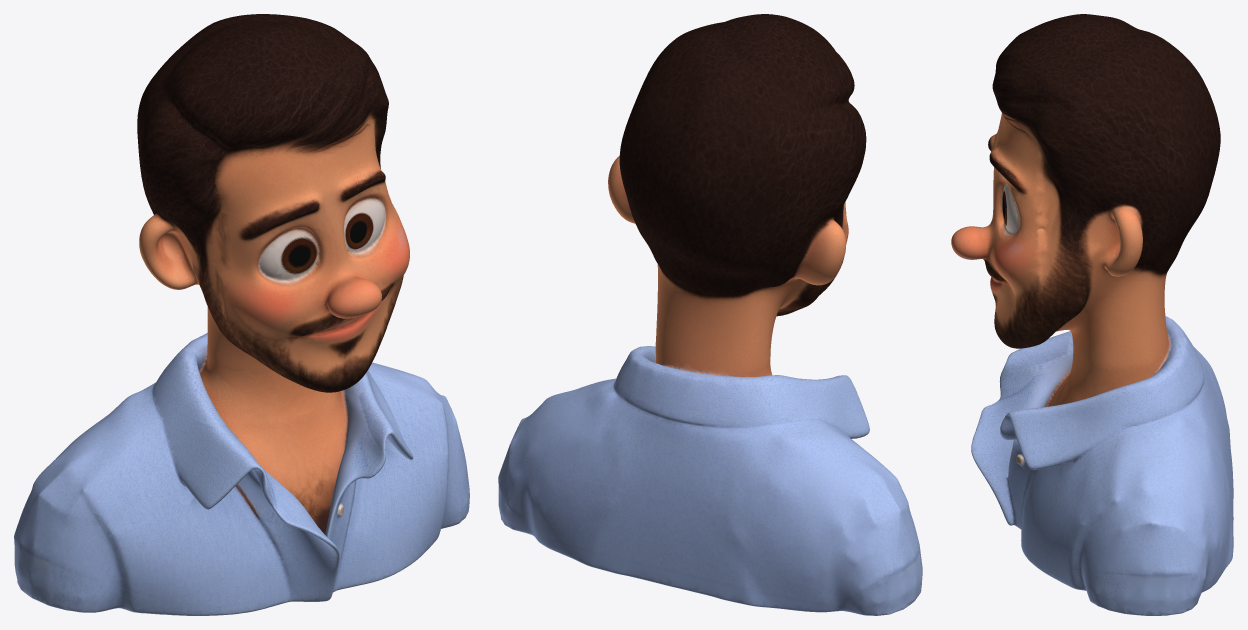
File: mohammad-character.glb
3 renders of one model, left to right at view 1: azimuth 30°, elevation 25°; view 2: azimuth 150°, elevation 25°; view 3: azimuth 270°, elevation 25°, orthographic. The views are drawn at different scales.
Visible parts, largest first — view 1: Shirt_Torso, Head_Face, Hair_SweptCap, Shirt_Collar, Neck_and_Chest, Ear_Left, Eye_Left_Surface, Eye_Right_Surface, Beard_and_Moustache, Eyebrows; view 2: Shirt_Torso, Hair_SweptCap, Head_Face, Shirt_Collar, Neck_and_Chest, Ear_Left; view 3: Shirt_Torso, Hair_SweptCap, Head_Face, Shirt_Collar, Ear_Right, Neck_and_Chest, Eye_Right_Surface.
Boxes of the visible parts, x1=… form: Shirt_Torso: x1=14, y1=362, x2=469, y2=615; Head_Face: x1=139, y1=114, x2=409, y2=388; Hair_SweptCap: x1=137, y1=14, x2=388, y2=201; Shirt_Collar: x1=120, y1=370, x2=413, y2=536; Neck_and_Chest: x1=155, y1=346, x2=368, y2=534; Ear_Left: x1=139, y1=204, x2=217, y2=299; Eye_Left_Surface: x1=275, y1=226, x2=333, y2=286; Eye_Right_Surface: x1=344, y1=196, x2=384, y2=261; Beard_and_Moustache: x1=283, y1=291, x2=388, y2=392; Eyebrows: x1=243, y1=172, x2=385, y2=239; Shirt_Torso: x1=498, y1=378, x2=922, y2=615; Hair_SweptCap: x1=619, y1=14, x2=866, y2=205; Head_Face: x1=608, y1=156, x2=861, y2=386; Shirt_Collar: x1=574, y1=375, x2=869, y2=528; Neck_and_Chest: x1=616, y1=346, x2=827, y2=423; Ear_Left: x1=808, y1=204, x2=846, y2=285; Shirt_Torso: x1=971, y1=350, x2=1233, y2=615; Hair_SweptCap: x1=989, y1=14, x2=1220, y2=196; Head_Face: x1=951, y1=113, x2=1219, y2=372; Shirt_Collar: x1=974, y1=333, x2=1226, y2=493; Ear_Right: x1=1006, y1=212, x2=1120, y2=318; Neck_and_Chest: x1=1016, y1=324, x2=1202, y2=465; Eye_Right_Surface: x1=998, y1=182, x2=1016, y2=239.
Size of the model in its own units: 1.62 by 1.96 by 1.01.
Materials: 11 (11 with a texture image).
